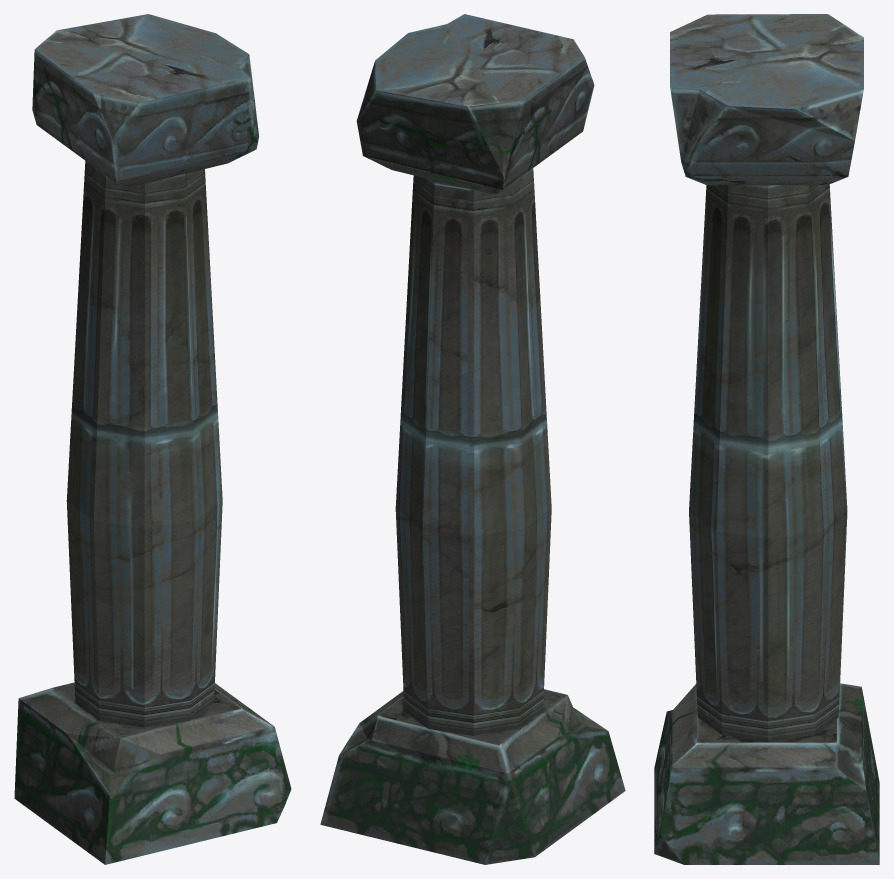
File: stemple_wall_convex_02.fbx
3 renders of one model, left to right at view 1: azimuth 30°, elevation 25°; view 2: azimuth 150°, elevation 25°; view 3: azimuth 270°, elevation 25°, orthographic.
Parts seen in each view (by area): view 1: obj0.038; view 2: obj0.038; view 3: obj0.038.
Boxes of the visible parts, x1,y1,x2,y2 form: obj0.038: [14, 14, 291, 864]; obj0.038: [320, 14, 625, 864]; obj0.038: [654, 14, 879, 864].
Bounding box in the file's own units: 2.26 × 8.32 × 2.23.
